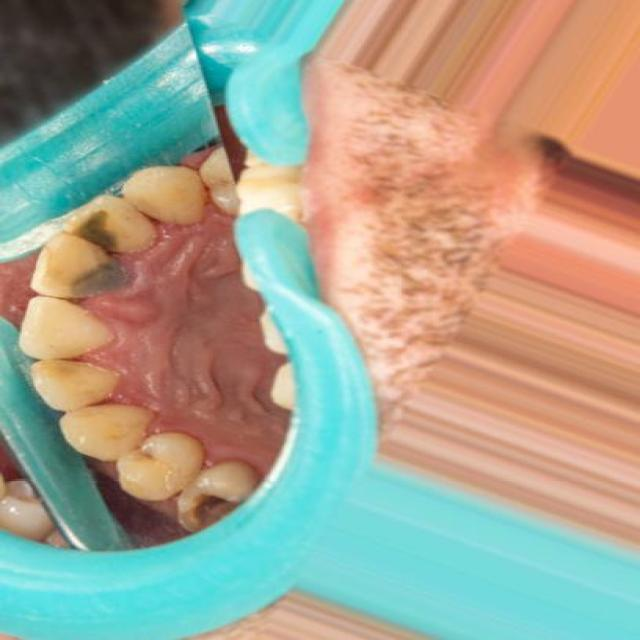caries: (48, 254, 137, 304), (169, 481, 247, 532), (57, 204, 136, 252)
